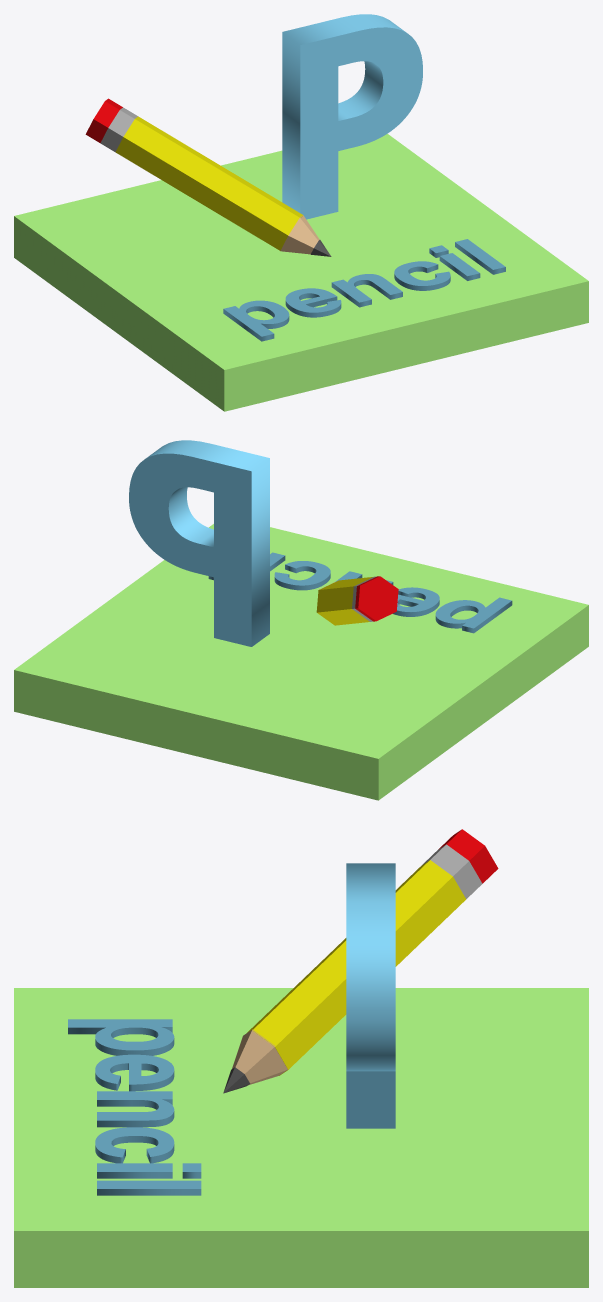
Rendered from pletter.glb.
3 renders of one model, top to bottom at view 1: azimuth 30°, elevation 25°; view 2: azimuth 150°, elevation 25°; view 3: azimuth 270°, elevation 25°, orthographic. The views are drawn at different scales.
Parts seen in each view (by area): view 1: Cube.022, Text.003, Cylinder, Text.002; view 2: Cube.022, Text.003, Text.002, Cylinder; view 3: Cube.022, Cylinder, Text.003, Text.002.
Boxes of the visible parts, x1=… form: Cube.022: x1=14, y1=134, x2=588, y2=411; Text.003: x1=282, y1=14, x2=422, y2=219; Cylinder: x1=85, y1=98, x2=331, y2=256; Text.002: x1=223, y1=239, x2=505, y2=341; Cube.022: x1=14, y1=524, x2=588, y2=800; Text.003: x1=129, y1=440, x2=269, y2=646; Text.002: x1=208, y1=552, x2=512, y2=633; Cylinder: x1=316, y1=576, x2=398, y2=625; Cube.022: x1=14, y1=988, x2=588, y2=1287; Cylinder: x1=223, y1=829, x2=498, y2=1093; Text.003: x1=346, y1=863, x2=395, y2=1128; Text.002: x1=68, y1=1019, x2=201, y2=1195.
Size of the model in its own units: 0.3237 by 0.1946 by 0.3237.
